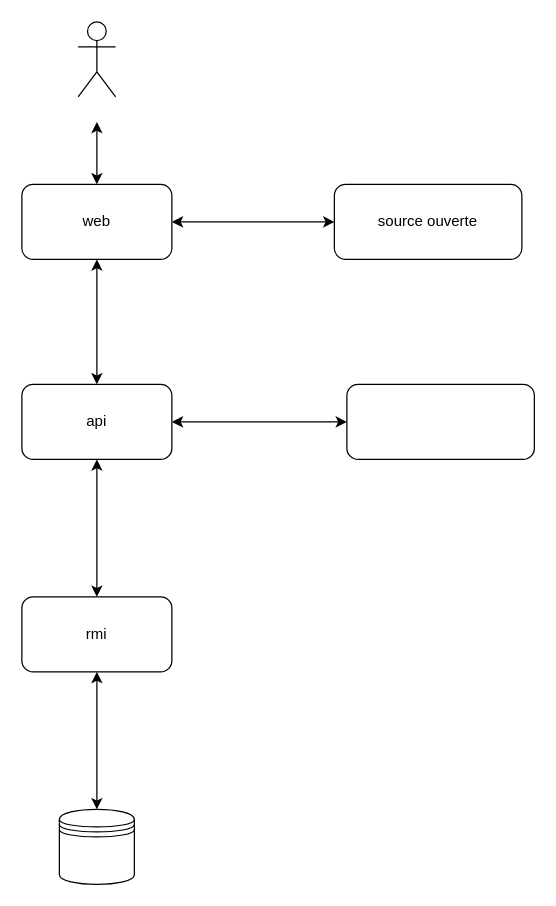
Image size: 556x906. Some labels were removed from this diagram. Here are the shapes that lost their labels. From the top down, the centre of each, then its label:
the point at 96,59: Actor
the point at 440,421: source externe fermé
